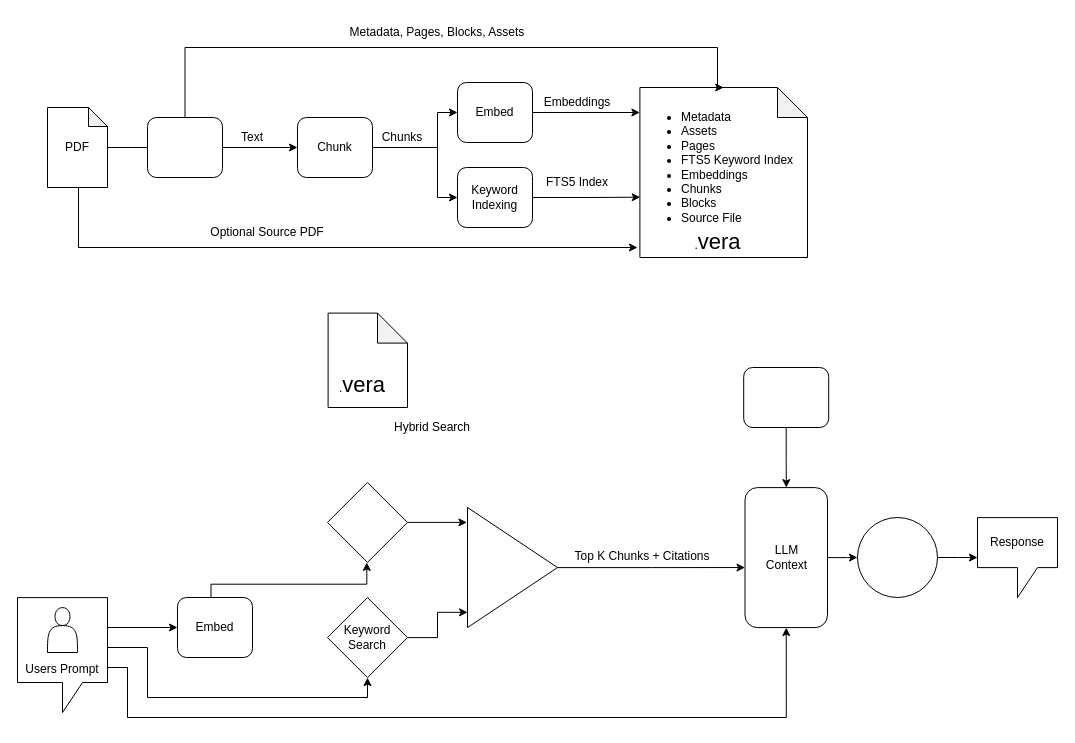
Some shapes in this 1075 by 743 pixel diagram are drawn without their labels. The shapes that lost their labels are listed below. From the top down, each one's centre as x and y in pixels, then its label:
At pixel 184 147: "Parse/OCR".
At pixel 786 397: "Instructions".
At pixel 367 521: "Semantic Search".
At pixel 512 567: "Rank Fusion".
At pixel 897 557: "LLM".
